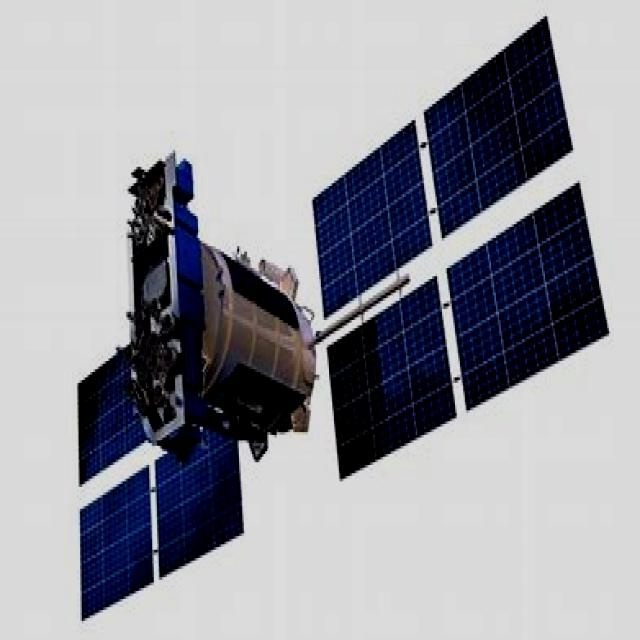satellite: (22, 15, 602, 595)
